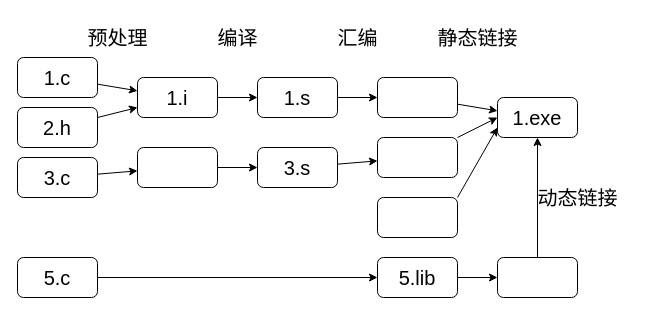
Some shapes in this 645 by 315 pixel diagram are drawn without their labels. Each missing label, with the box of its shape:
1.o: (376, 76, 458, 118)
3.i: (136, 146, 218, 188)
3.o: (376, 136, 458, 178)
4.lib: (376, 196, 458, 238)
5.dll: (496, 256, 578, 298)
